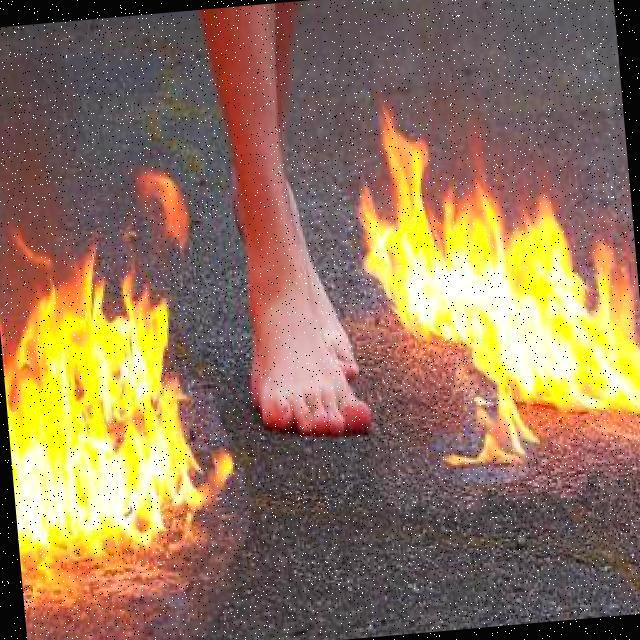Fire: (350, 104, 640, 493), (0, 164, 236, 573)
